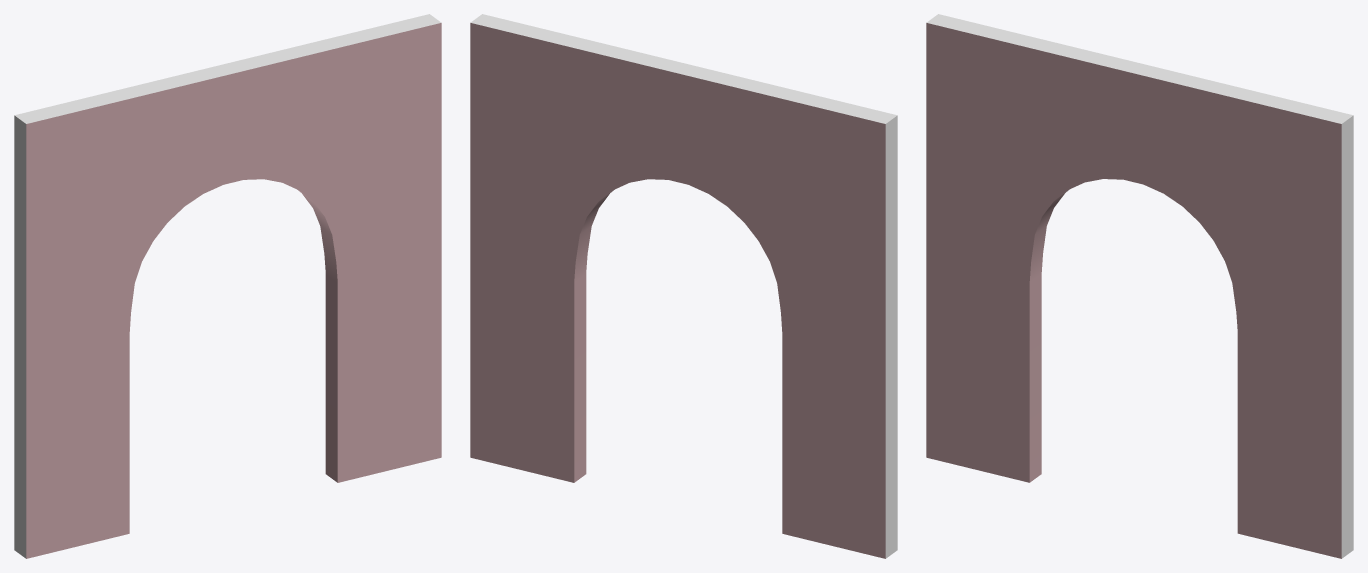
The model's file is wall_051.fbx.
3 views of the same model, side by side, from view 1: azimuth 30°, elevation 25°; view 2: azimuth 150°, elevation 25°; view 3: azimuth 330°, elevation 25° (orthographic).
Parts seen in each view (by area): view 1: wall_051; view 2: wall_051; view 3: wall_051.
Boxes of the visible parts, x1,y1,x2,y2 form: wall_051: [14, 14, 441, 558]; wall_051: [470, 14, 897, 558]; wall_051: [926, 14, 1353, 558].
Bounding box in the file's own units: 400 × 20 × 400.
